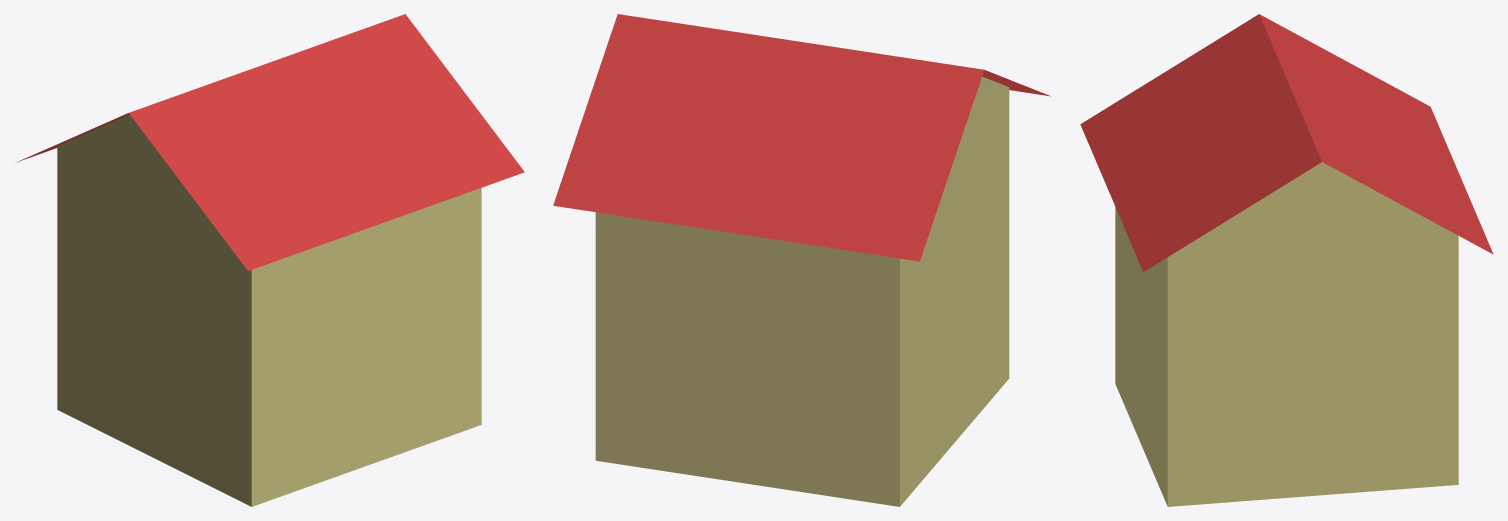
3 views of the same model, side by side, from view 1: azimuth 30°, elevation 25°; view 2: azimuth 150°, elevation 25°; view 3: azimuth 270°, elevation 25° (orthographic). The views are drawn at different scales.
Bounding box in the file's own units: 13.65 × 13.66 × 12.62.
